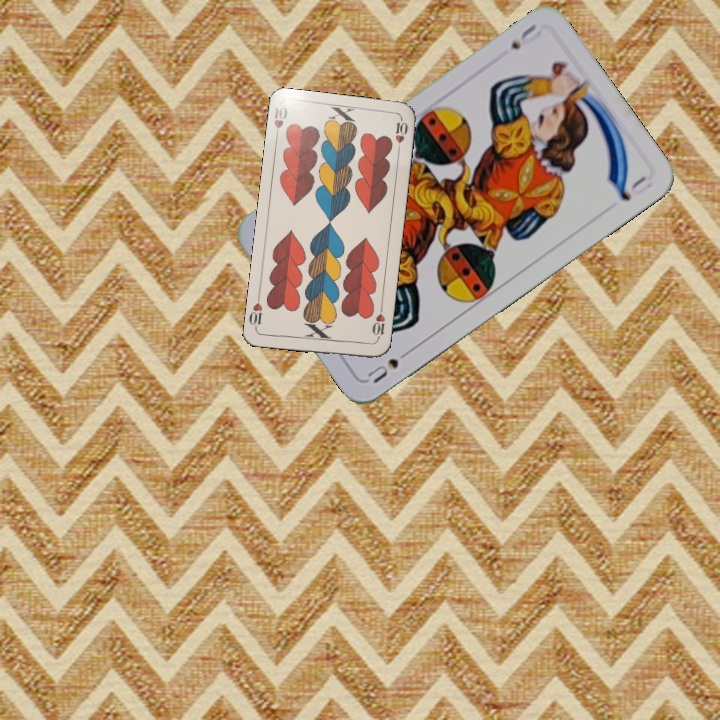H10: (368, 303, 388, 344), (270, 102, 290, 143)
SU: (363, 344, 415, 386), (506, 19, 544, 53)
